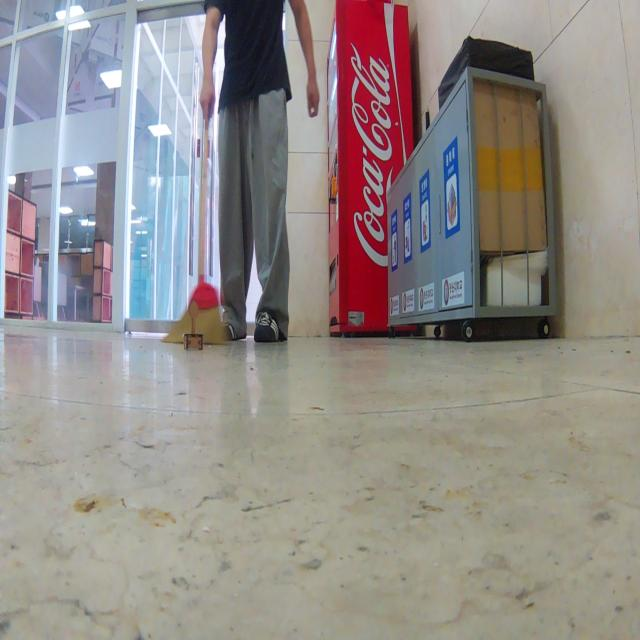target: (184, 300, 204, 351)
